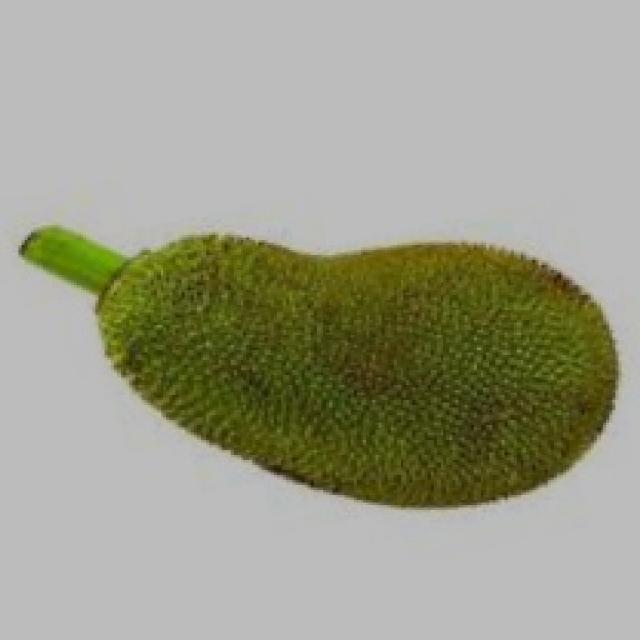Fruit: (240, 223, 637, 535)
